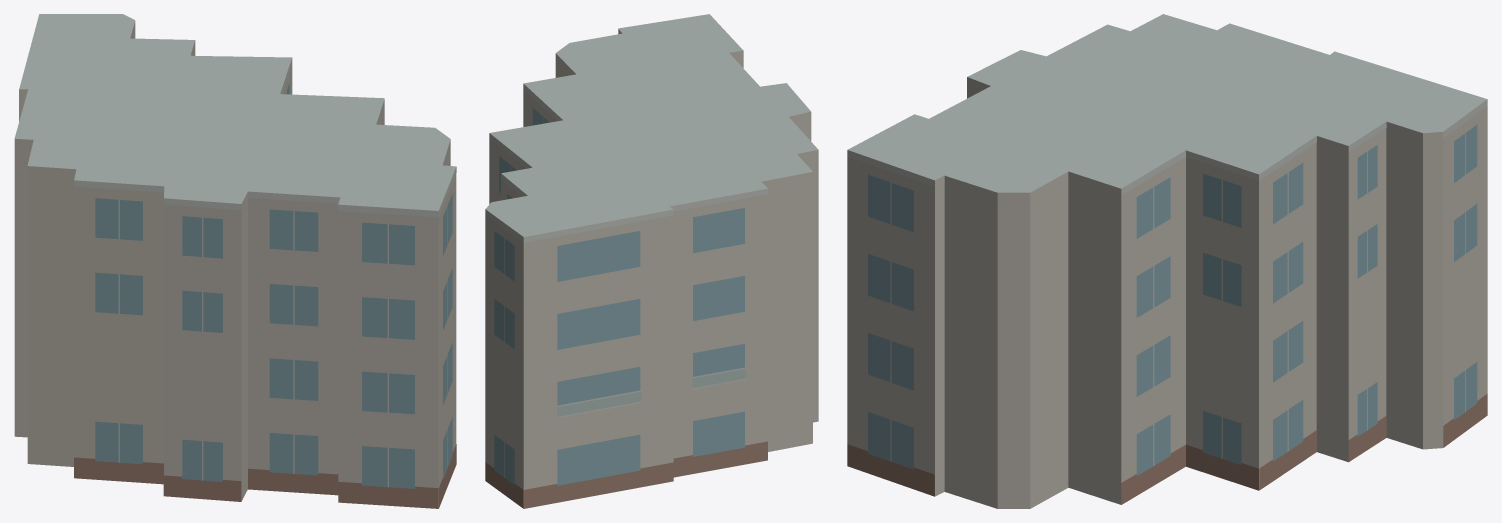
File: survey-upis-32630926.glb
3 views of the same model, side by side, from view 1: azimuth 30°, elevation 25°; view 2: azimuth 150°, elevation 25°; view 3: azimuth 270°, elevation 25° (orthographic). The views are drawn at different scales.
Visible parts, largest first — view 1: survey-upis-32630926.tmp; view 2: survey-upis-32630926.tmp; view 3: survey-upis-32630926.tmp.
Boxes of the visible parts, <box> form: survey-upis-32630926.tmp: <box>14,14,456,508</box>; survey-upis-32630926.tmp: <box>485,14,818,508</box>; survey-upis-32630926.tmp: <box>847,14,1487,508</box>.
Bounding box in the file's own units: 14.18 × 11.7 × 21.48.
